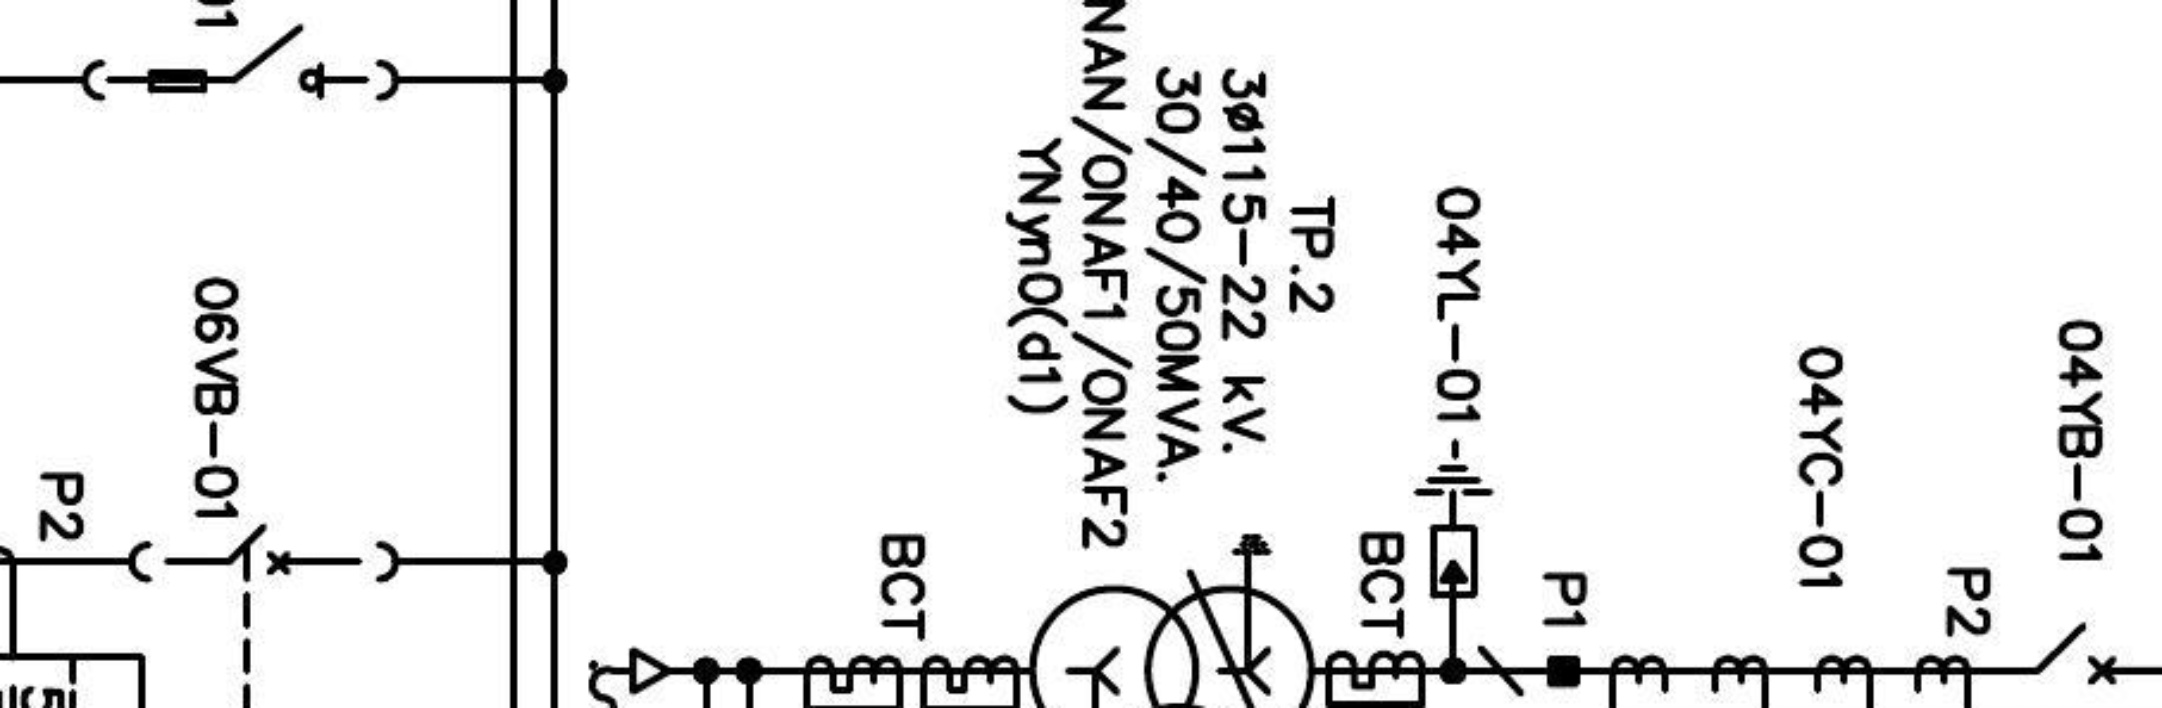115_breaker: (2034, 620, 2119, 686)
115_la: (1412, 436, 1496, 600)
22_breaker: (127, 520, 400, 584)
22_ds: (80, 22, 400, 105)
